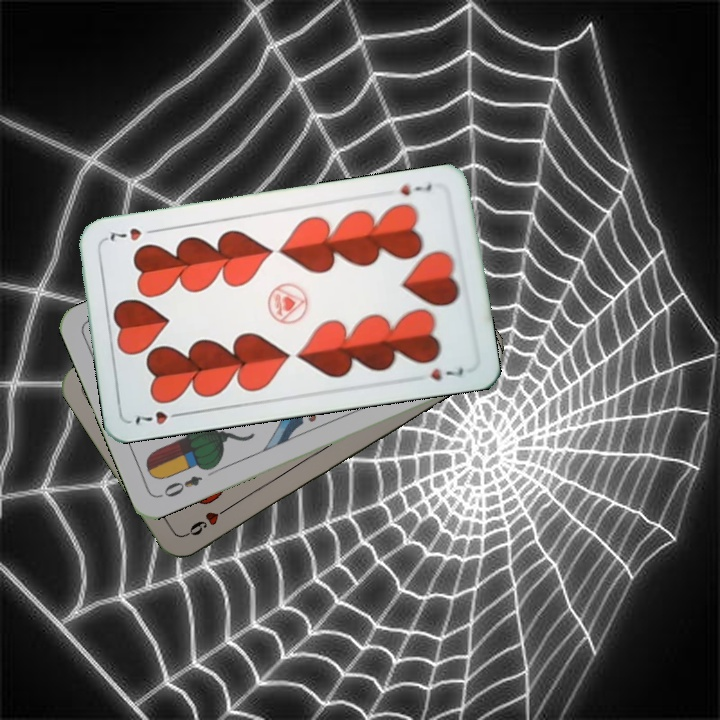EO: (155, 471, 205, 501)
H7: (131, 407, 187, 428), (396, 180, 434, 198)
H9: (182, 501, 234, 539)
